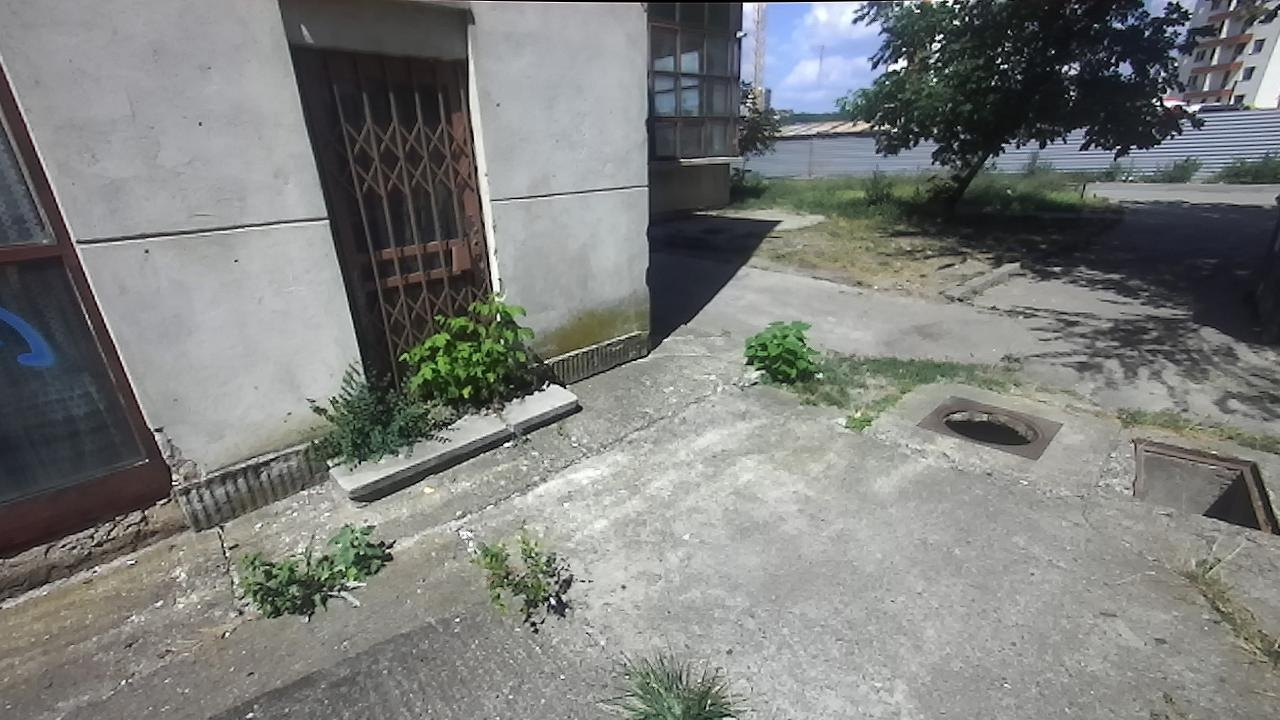drain: (1130, 436, 1279, 539), (922, 403, 1048, 450)
